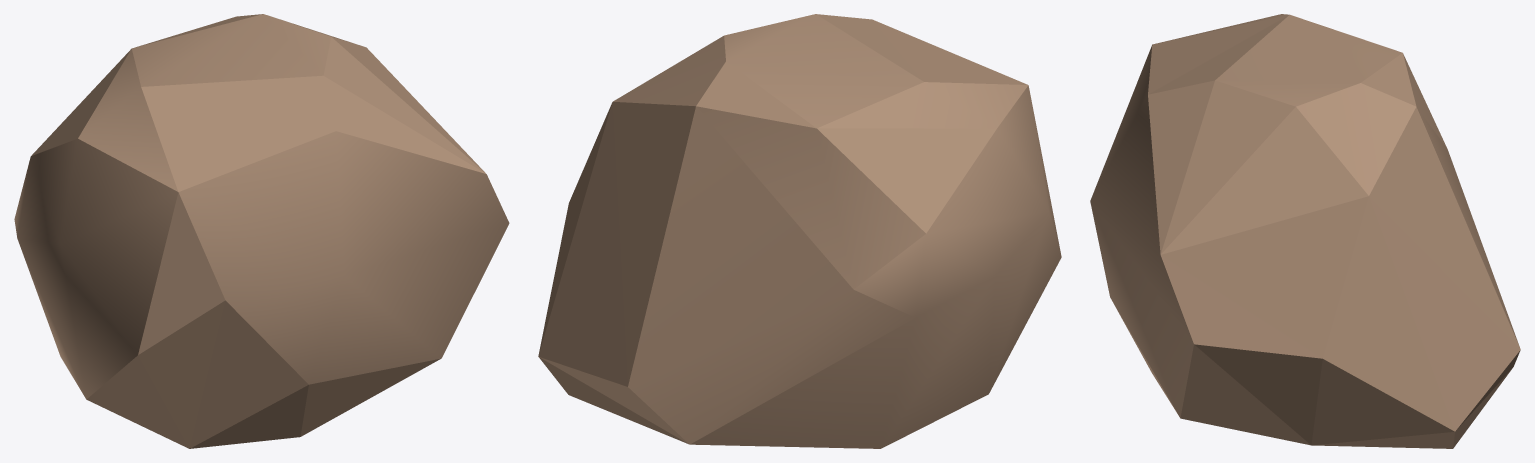
The model's file is a_z2_rock_m.fbx.
3 renders of one model, left to right at view 1: azimuth 30°, elevation 25°; view 2: azimuth 150°, elevation 25°; view 3: azimuth 270°, elevation 25°, orthographic. The views are drawn at different scales.
Visible parts, largest first — view 1: a_z2_rock_m; view 2: a_z2_rock_m; view 3: a_z2_rock_m.
Part boxes in pixels (left/top/right/bottom): a_z2_rock_m: left=14, top=14, right=509, bottom=448; a_z2_rock_m: left=538, top=14, right=1061, bottom=448; a_z2_rock_m: left=1090, top=14, right=1520, bottom=448.
Size of the model in its own units: 200 by 154 by 175.
